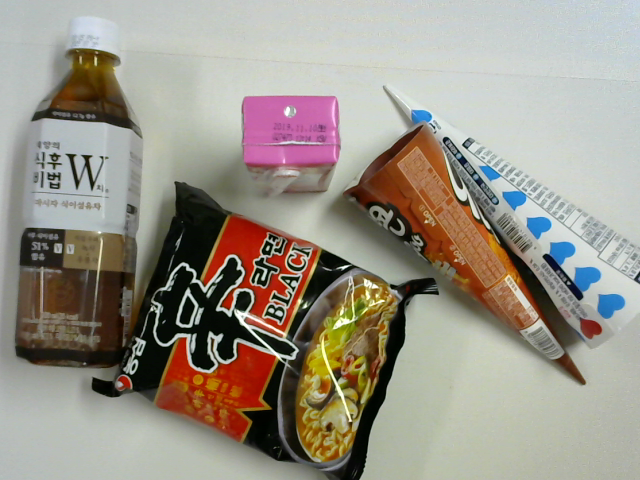Bravo_Cone_(Banila)_CVS: (382, 82, 640, 349)
GooGoo_Cone_CVS: (347, 127, 586, 386)
Post-meal_recipe_W_tea_500ml: (16, 10, 144, 367)
Sinramen_Black: (118, 191, 402, 480)
Strawberry_E_Mong: (237, 92, 340, 202)
